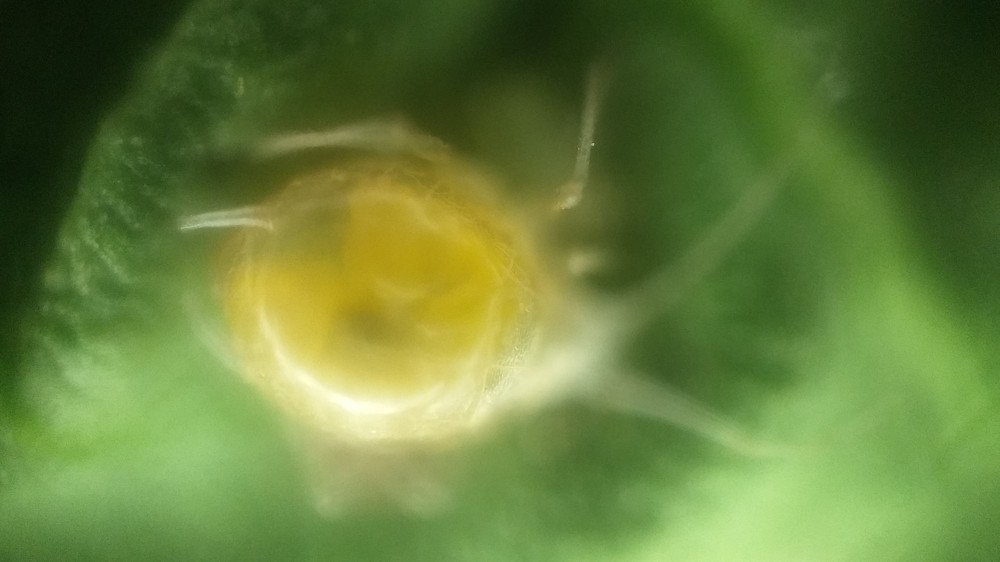Pulgon: (166, 29, 899, 517)
